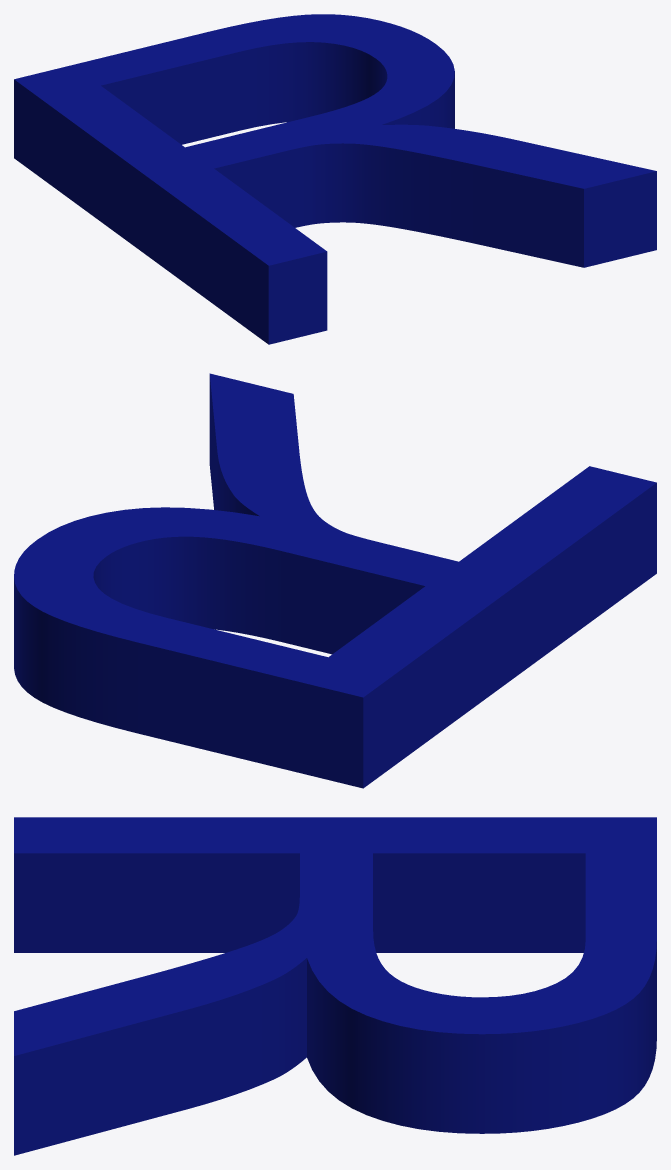
The picture shows the model from 3 angles, top to bottom: view 1: azimuth 30°, elevation 25°; view 2: azimuth 150°, elevation 25°; view 3: azimuth 270°, elevation 25°; orthographic projection. The views are drawn at different scales.
Visible parts, largest first — view 1: TextPlus018; view 2: TextPlus018; view 3: TextPlus018.
Boxes of the visible parts, box(x1,y1,x2,y2) form: TextPlus018: box(14, 14, 656, 344); TextPlus018: box(14, 373, 656, 788); TextPlus018: box(14, 817, 656, 1155).
Bounding box in the file's own units: 22.55 × 4.38 × 25.64.
